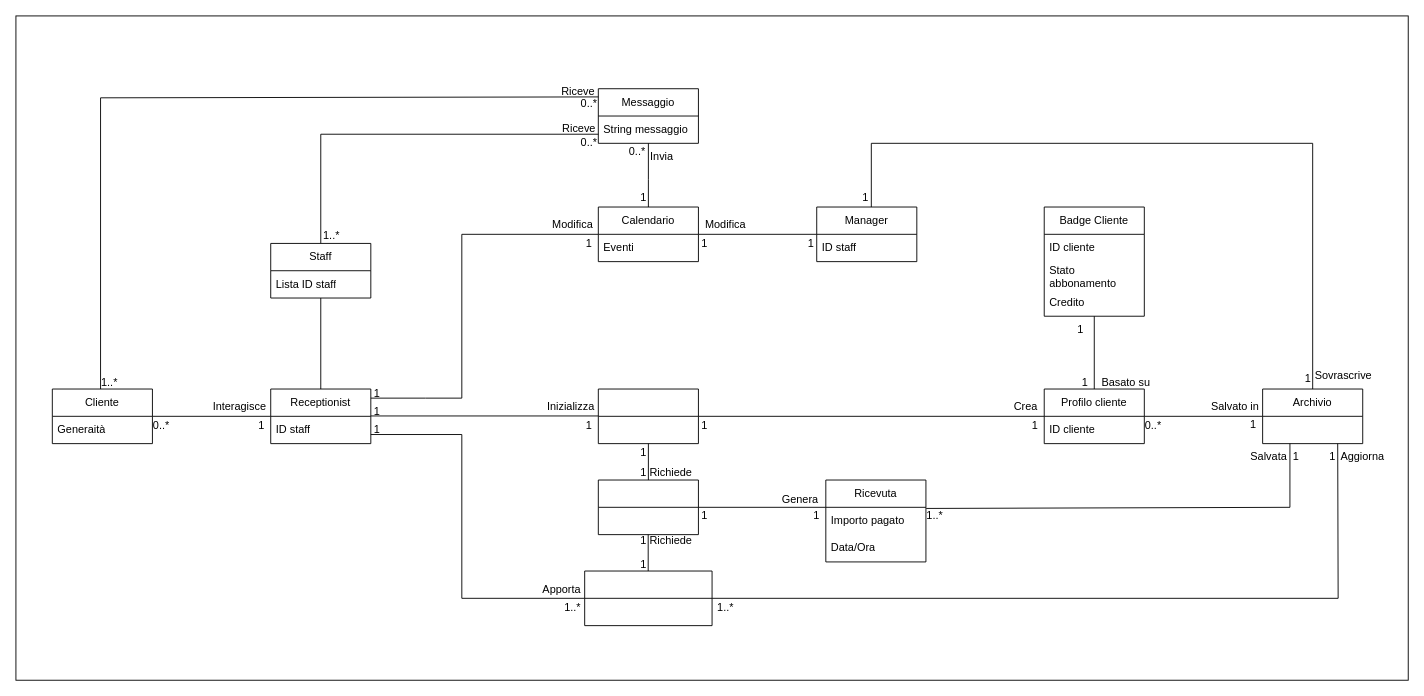
Some shapes in this 1424 by 696 pixel diagram are drawn without their labels. The centre of each missing label's shape, as x and y in pixels:
Iscrizione: the point at 647,416
Modifica/ eliminazione abbonamento: the point at 648,598
Operazione di pagamento: the point at 647,507
